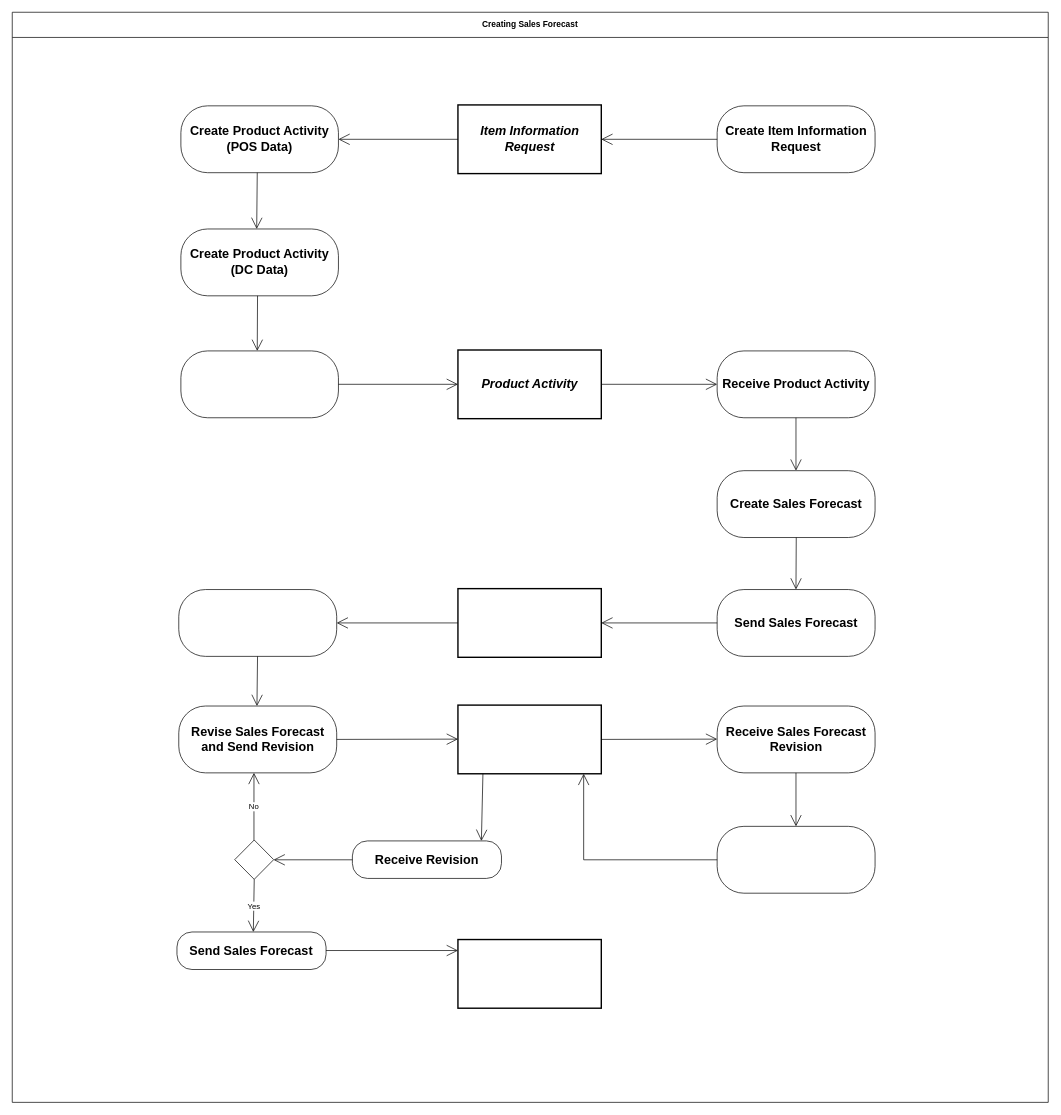
This 1061x1115 diagram has some shape labels left out. Each missing label, with the centre of its shape:
"Forecast (sales - positive response)" goes at (529,973).
"Forecast (sales)" goes at (529,623).
"Forecast Revision (sales)" goes at (529,739).
"Receive Sales Forecast" goes at (257,622).
"Revise and Resend Revision" goes at (795,859).
"Send Product Activity" goes at (259,384).
